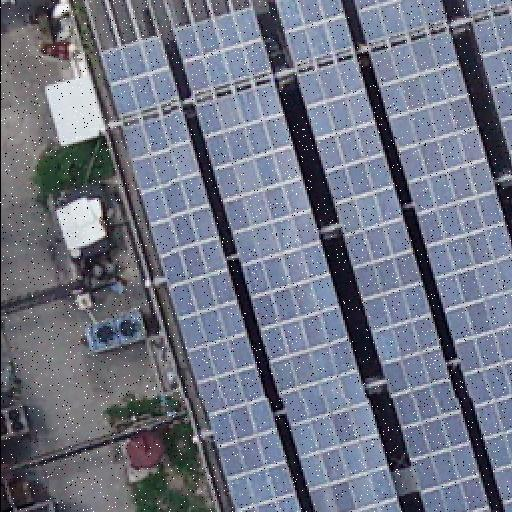solar-panel: (294, 58, 490, 510), (194, 82, 398, 510), (364, 30, 512, 510), (122, 110, 298, 510), (172, 6, 272, 98), (100, 37, 180, 123), (472, 11, 512, 157), (276, 1, 356, 71), (351, 0, 449, 48), (464, 1, 512, 15)
